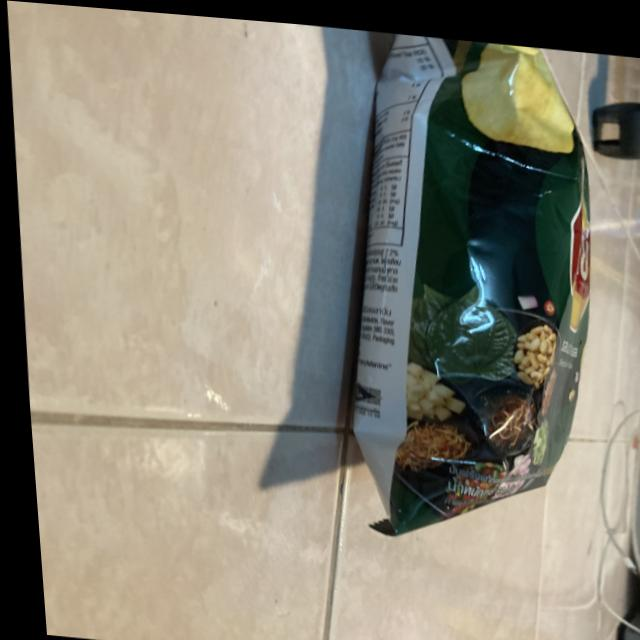Laygreen: (301, 19, 623, 564)
